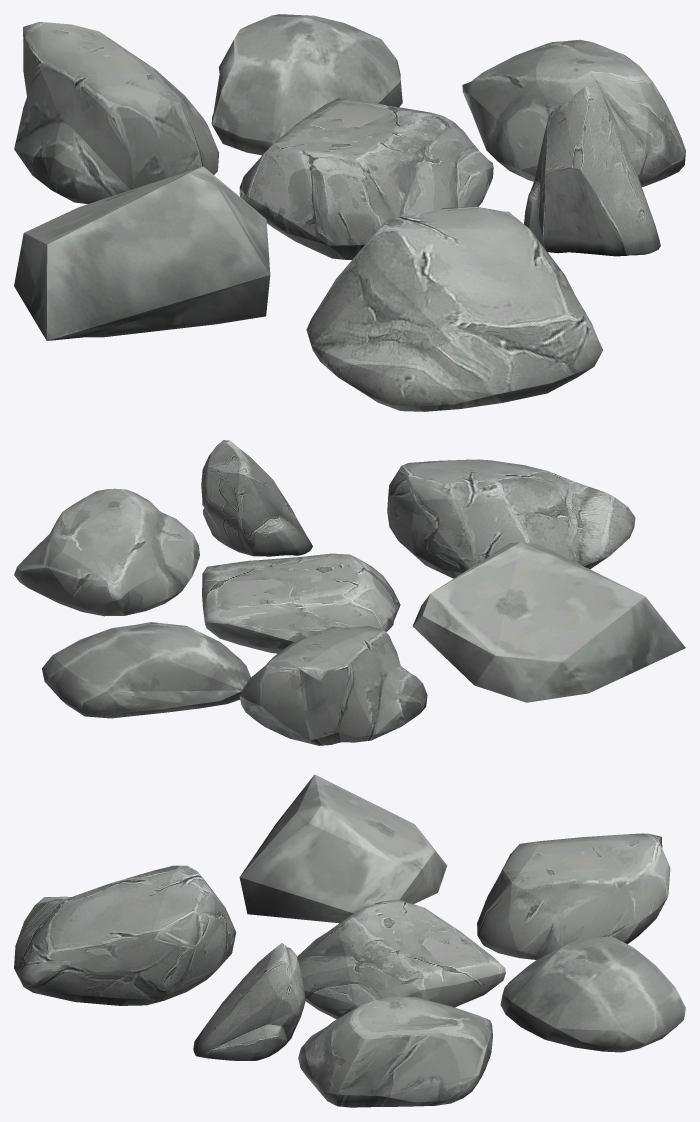
3 renders of one model, top to bottom at view 1: azimuth 30°, elevation 25°; view 2: azimuth 150°, elevation 25°; view 3: azimuth 270°, elevation 25°, orthographic. The views are drawn at different scales.
Parts seen in each view (by area): view 1: mesh_3_3.nr; view 2: mesh_3_3.nr; view 3: mesh_3_3.nr.
Boxes of the visible parts, left/top/right/bottom form: mesh_3_3.nr: left=14, top=14, right=685, bottom=411; mesh_3_3.nr: left=14, top=440, right=685, bottom=745; mesh_3_3.nr: left=14, top=774, right=685, bottom=1107.
Bounding box in the file's own units: 581 × 120 × 602.
